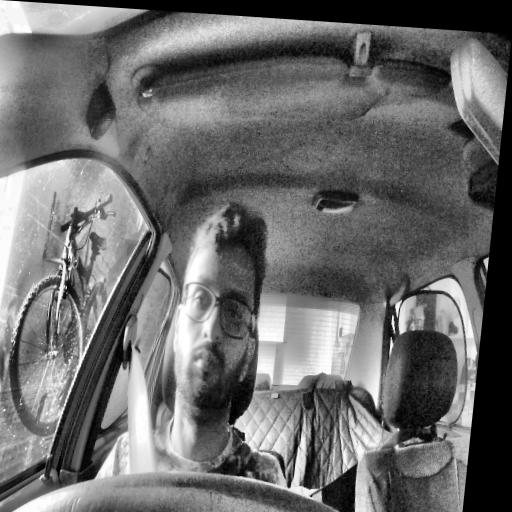awake: (163, 200, 272, 421)
